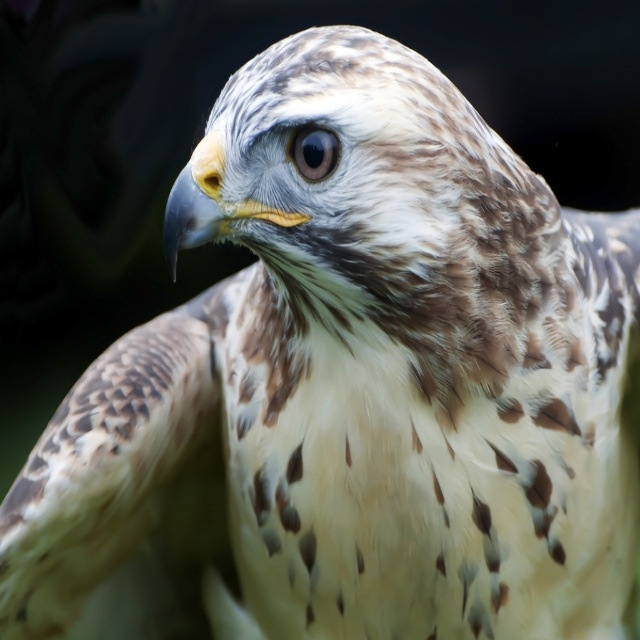Eagle: (0, 23, 640, 639)
